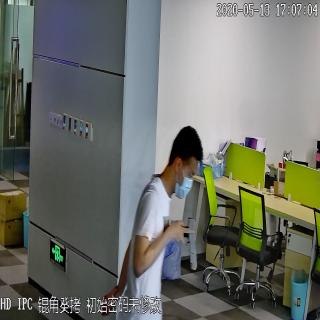gun: (174, 213, 198, 274)
